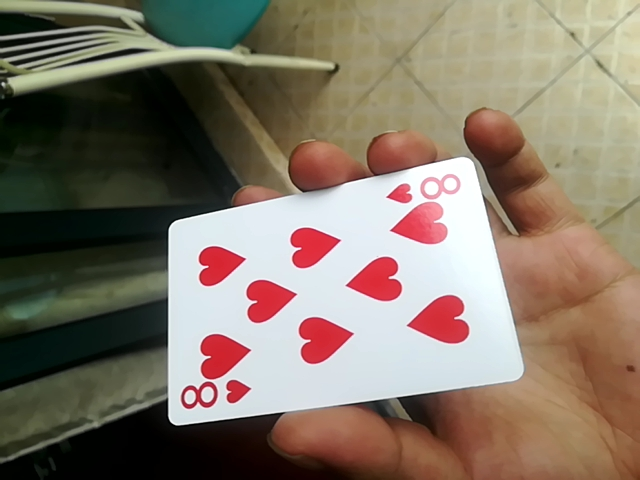hx 8: (158, 159, 513, 429)
